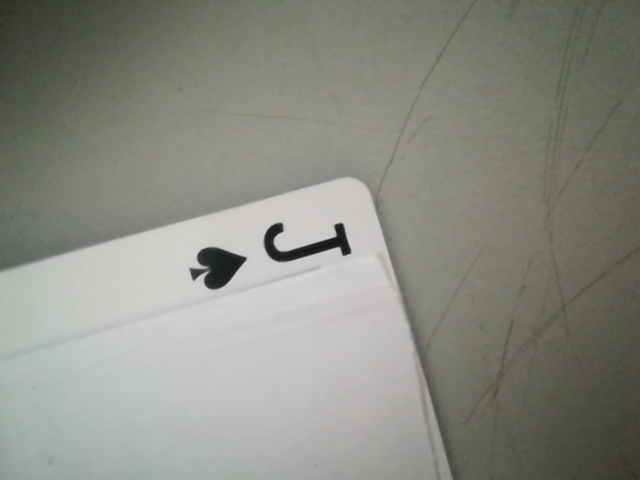ht j: (159, 204, 376, 291)
